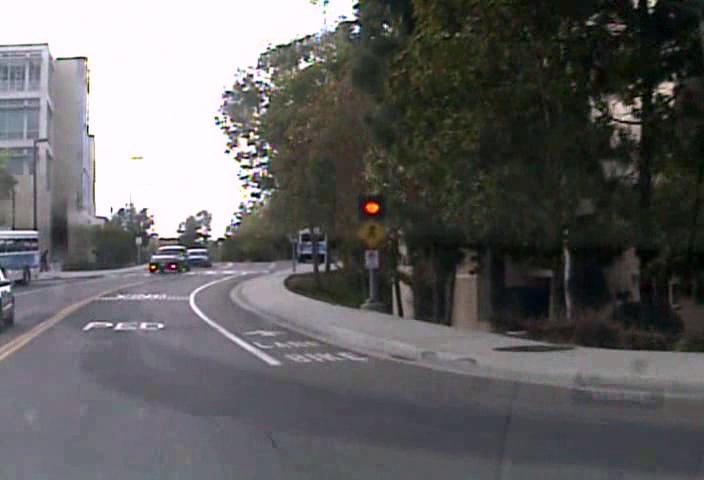pedestrianCrossing: (355, 217, 389, 248)
